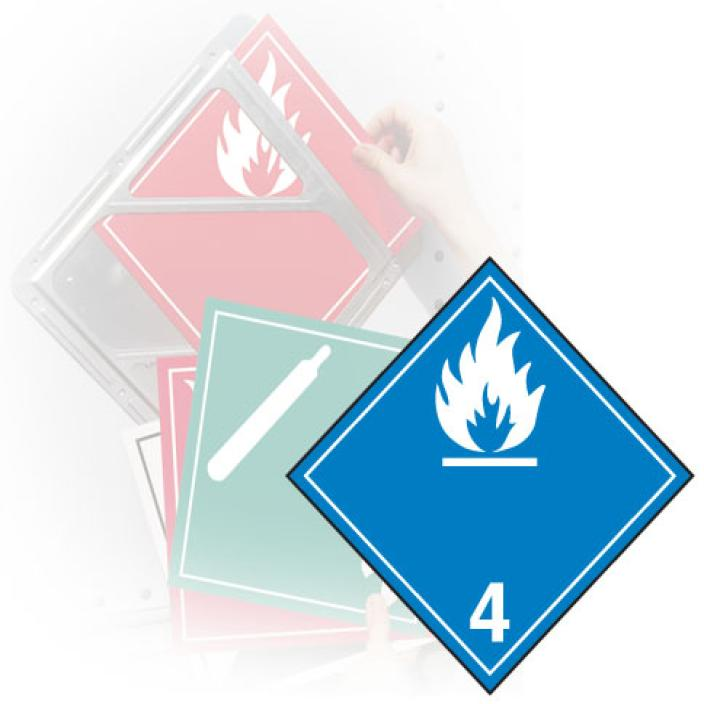clock: (289, 261, 689, 690)
